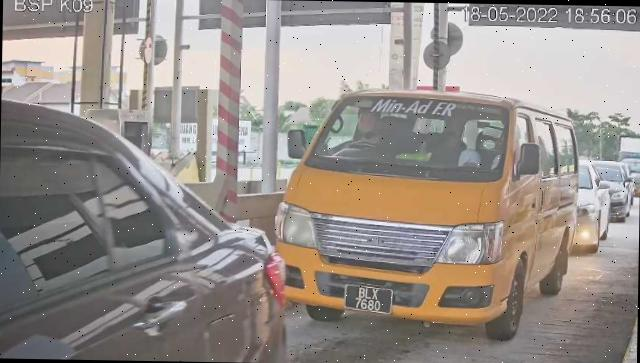License_Plate: (344, 282, 395, 317)
van: (276, 89, 582, 343)
